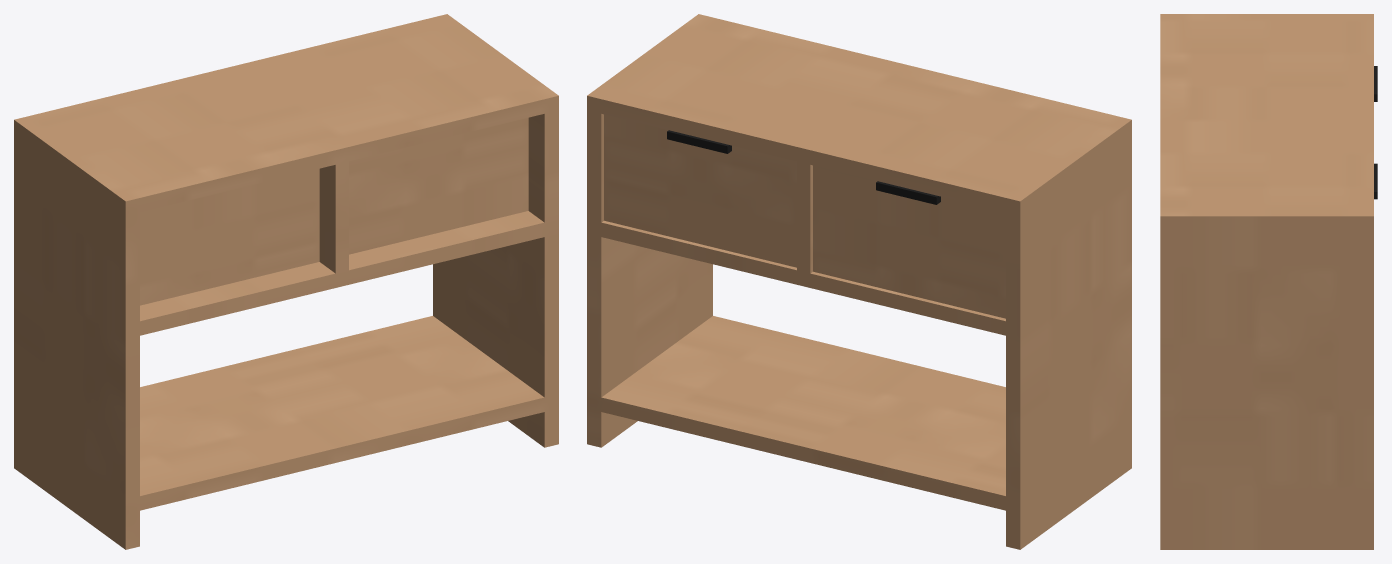
The model's file is BathroomVanity03.glb.
3 renders of one model, left to right at view 1: azimuth 30°, elevation 25°; view 2: azimuth 150°, elevation 25°; view 3: azimuth 270°, elevation 25°, orthographic. The views are drawn at different scales.
Visible parts, largest first — view 1: BathroomVanity03_model, BathroomVanity03Drawer02, BathroomVanity03Drawer01; view 2: BathroomVanity03_model, BathroomVanity03Drawer02, BathroomVanity03Drawer01; view 3: BathroomVanity03_model.
Boxes of the visible parts, <box> form: BathroomVanity03_model: <box>14,14,558,549</box>; BathroomVanity03Drawer02: <box>140,168,319,305</box>; BathroomVanity03Drawer01: <box>349,117,528,254</box>; BathroomVanity03_model: <box>587,14,1131,549</box>; BathroomVanity03Drawer02: <box>813,165,1005,318</box>; BathroomVanity03Drawer01: <box>604,114,796,267</box>; BathroomVanity03_model: <box>1160,14,1373,549</box>.
Size of the model in its own units: 2.29 by 1.76 by 1.04.
1 material, 1 textured.
